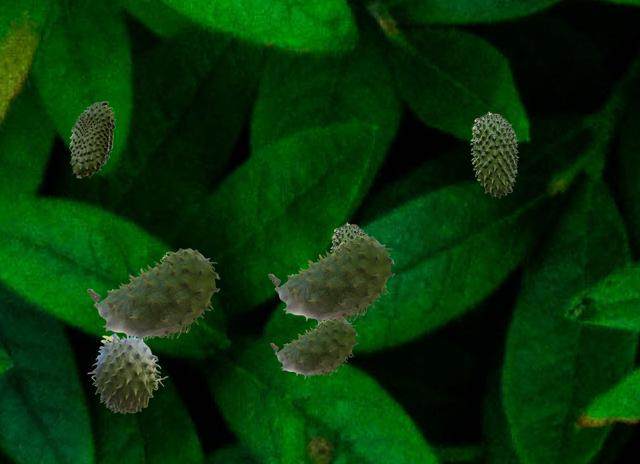guyabano: (87, 248, 219, 343), (268, 235, 394, 325), (87, 333, 167, 413), (270, 319, 357, 378), (470, 111, 518, 197), (69, 101, 111, 177), (330, 222, 368, 252), (101, 107, 114, 166)
